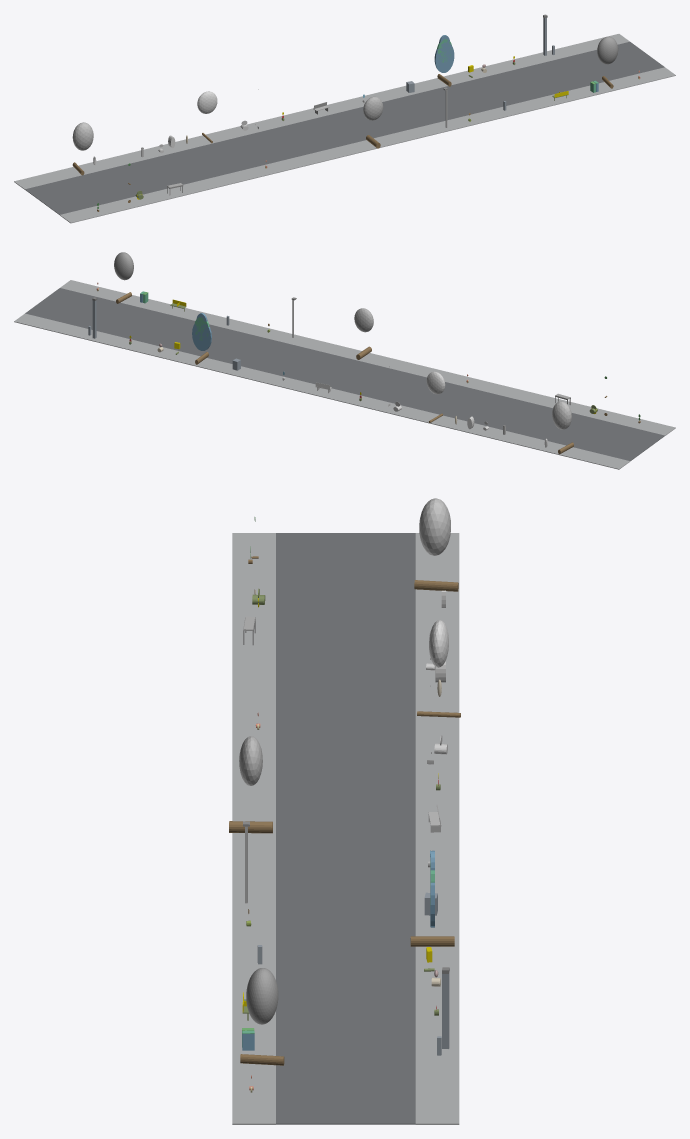
3 renders of one model, top to bottom at view 1: azimuth 30°, elevation 25°; view 2: azimuth 150°, elevation 25°; view 3: azimuth 270°, elevation 25°, orthographic. The views are drawn at different scales.
Parts seen in each view (by area): view 1: road_slab, sidewalk_left, sidewalk_right, inst_0015, inst_0012, inst_0016, inst_0014, inst_0013; view 2: road_slab, sidewalk_right, sidewalk_left, inst_0015, inst_0012, inst_0016, inst_0014, inst_0013; view 3: road_slab, sidewalk_right, sidewalk_left, inst_0012, inst_0016, inst_0014, inst_0013.
Part boxes in pixels (x1,y1,x2,y2): road_slab: [25, 41, 664, 214]; sidewalk_left: [60, 67, 675, 223]; sidewalk_right: [14, 34, 629, 189]; inst_0015: [434, 35, 454, 86]; inst_0012: [72, 122, 93, 175]; inst_0016: [597, 36, 618, 88]; inst_0014: [363, 96, 383, 148]; inst_0013: [197, 91, 217, 143]; road_slab: [25, 288, 664, 461]; sidewalk_right: [14, 313, 629, 469]; sidewalk_left: [60, 280, 675, 435]; inst_0015: [192, 313, 211, 364]; inst_0012: [552, 401, 573, 454]; inst_0016: [114, 252, 133, 303]; inst_0014: [354, 308, 373, 359]; inst_0013: [426, 371, 445, 422]; road_slab: [276, 533, 415, 1124]; sidewalk_right: [415, 533, 459, 1124]; sidewalk_left: [232, 533, 275, 1124]; inst_0012: [414, 498, 458, 591]; inst_0016: [240, 968, 284, 1065]; inst_0014: [229, 736, 272, 833]; inst_0013: [417, 620, 460, 717].
Size of the model in its own units: 80 by 6.08 by 13.28.
